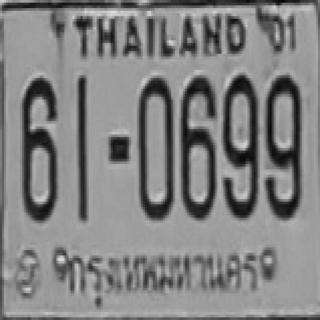N00: (137, 75, 173, 218), (264, 73, 300, 212), (221, 74, 256, 163)
N01: (76, 74, 88, 203)
N06: (179, 75, 215, 218), (21, 77, 57, 219)
N09: (221, 74, 258, 216), (264, 73, 300, 218)
P04: (60, 249, 261, 311)
